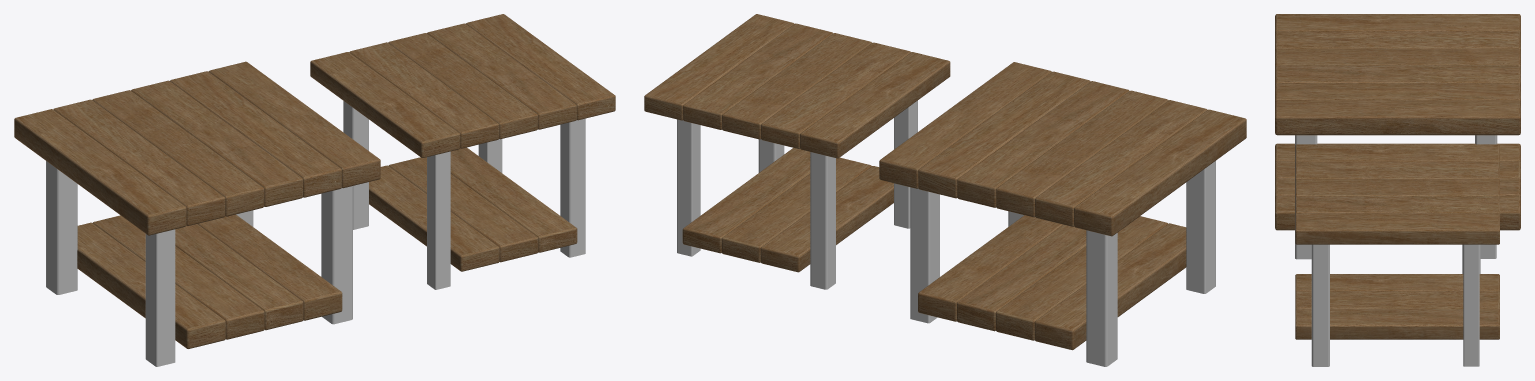
Rendered from SF_coffe_table.fbx.
The picture shows the model from 3 angles, left to right: view 1: azimuth 30°, elevation 25°; view 2: azimuth 150°, elevation 25°; view 3: azimuth 270°, elevation 25°; orthographic projection. The views are drawn at different scales.
Parts seen in each view (by area): view 1: CT_Up_Array, CTS_Top_Array, CT_Down_Array, CTS_Down_Array, CT_Leg_Front_Left, CT_Leg_Back_Left, CT_Leg_Front_Right, CTS_Leg_Front_Left, CTS_Leg_Front_Right, CTS_Leg_Back_Left, CTS_Leg_Back_Right; view 2: CT_Up_Array, CTS_Top_Array, CT_Down_Array, CTS_Down_Array, CT_Leg_Back_Left, CT_Leg_Front_Left, CTS_Leg_Back_Left, CT_Leg_Back_Right, CTS_Leg_Back_Right, CTS_Leg_Front_Left, CTS_Leg_Front_Right; view 3: CT_Up_Array, CTS_Top_Array, CTS_Down_Array, CT_Down_Array, CTS_Leg_Front_Right, CTS_Leg_Back_Right, CT_Leg_Front_Right, CT_Leg_Back_Right.
Part boxes in pixels (left/top/right/bottom): CT_Up_Array: left=14, top=61, right=380, bottom=235; CTS_Top_Array: left=310, top=14, right=615, bottom=157; CT_Down_Array: left=77, top=214, right=342, bottom=348; CTS_Down_Array: left=369, top=147, right=577, bottom=271; CT_Leg_Front_Left: left=145, top=229, right=175, bottom=366; CT_Leg_Back_Left: left=46, top=161, right=77, bottom=294; CT_Leg_Front_Right: left=321, top=186, right=352, bottom=324; CTS_Leg_Front_Left: left=427, top=151, right=450, bottom=289; CTS_Leg_Front_Right: left=560, top=118, right=585, bottom=257; CTS_Leg_Back_Left: left=343, top=101, right=368, bottom=229; CTS_Leg_Back_Right: left=478, top=139, right=502, bottom=172; CT_Up_Array: left=879, top=62, right=1246, bottom=236; CTS_Top_Array: left=644, top=14, right=950, bottom=158; CT_Down_Array: left=918, top=215, right=1186, bottom=350; CTS_Down_Array: left=682, top=148, right=893, bottom=272; CT_Leg_Back_Left: left=1086, top=230, right=1117, bottom=366; CT_Leg_Front_Left: left=1186, top=161, right=1215, bottom=293; CTS_Leg_Back_Left: left=810, top=152, right=835, bottom=289; CT_Leg_Back_Right: left=910, top=187, right=939, bottom=323; CTS_Leg_Back_Right: left=677, top=119, right=700, bottom=256; CTS_Leg_Front_Left: left=894, top=100, right=917, bottom=228; CTS_Leg_Front_Right: left=758, top=139, right=784, bottom=172; CT_Up_Array: left=1275, top=14, right=1520, bottom=135; CTS_Top_Array: left=1295, top=144, right=1499, bottom=244; CTS_Down_Array: left=1295, top=274, right=1499, bottom=339; CT_Down_Array: left=1275, top=143, right=1520, bottom=230; CTS_Leg_Front_Right: left=1311, top=244, right=1329, bottom=366; CTS_Leg_Back_Right: left=1463, top=244, right=1479, bottom=366; CT_Leg_Front_Right: left=1295, top=135, right=1317, bottom=259; CT_Leg_Back_Right: left=1476, top=135, right=1496, bottom=258.
Bounding box in the file's own units: 122 × 40 × 59.5.
